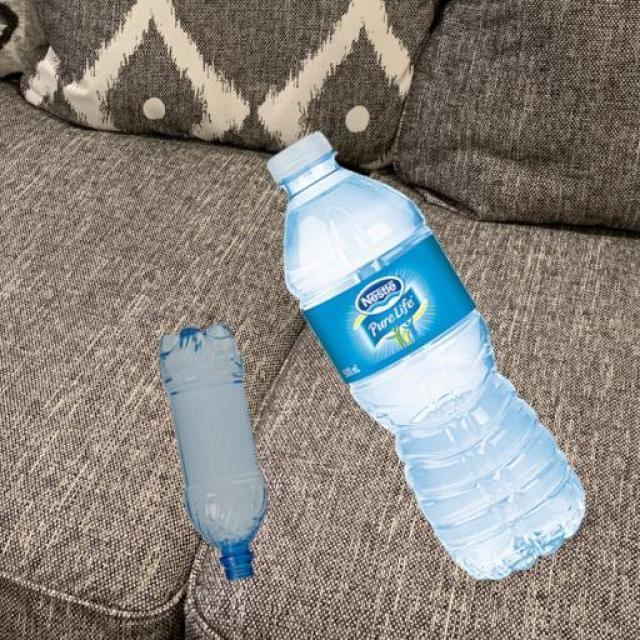bottle: (262, 128, 588, 582), (156, 320, 269, 580)
